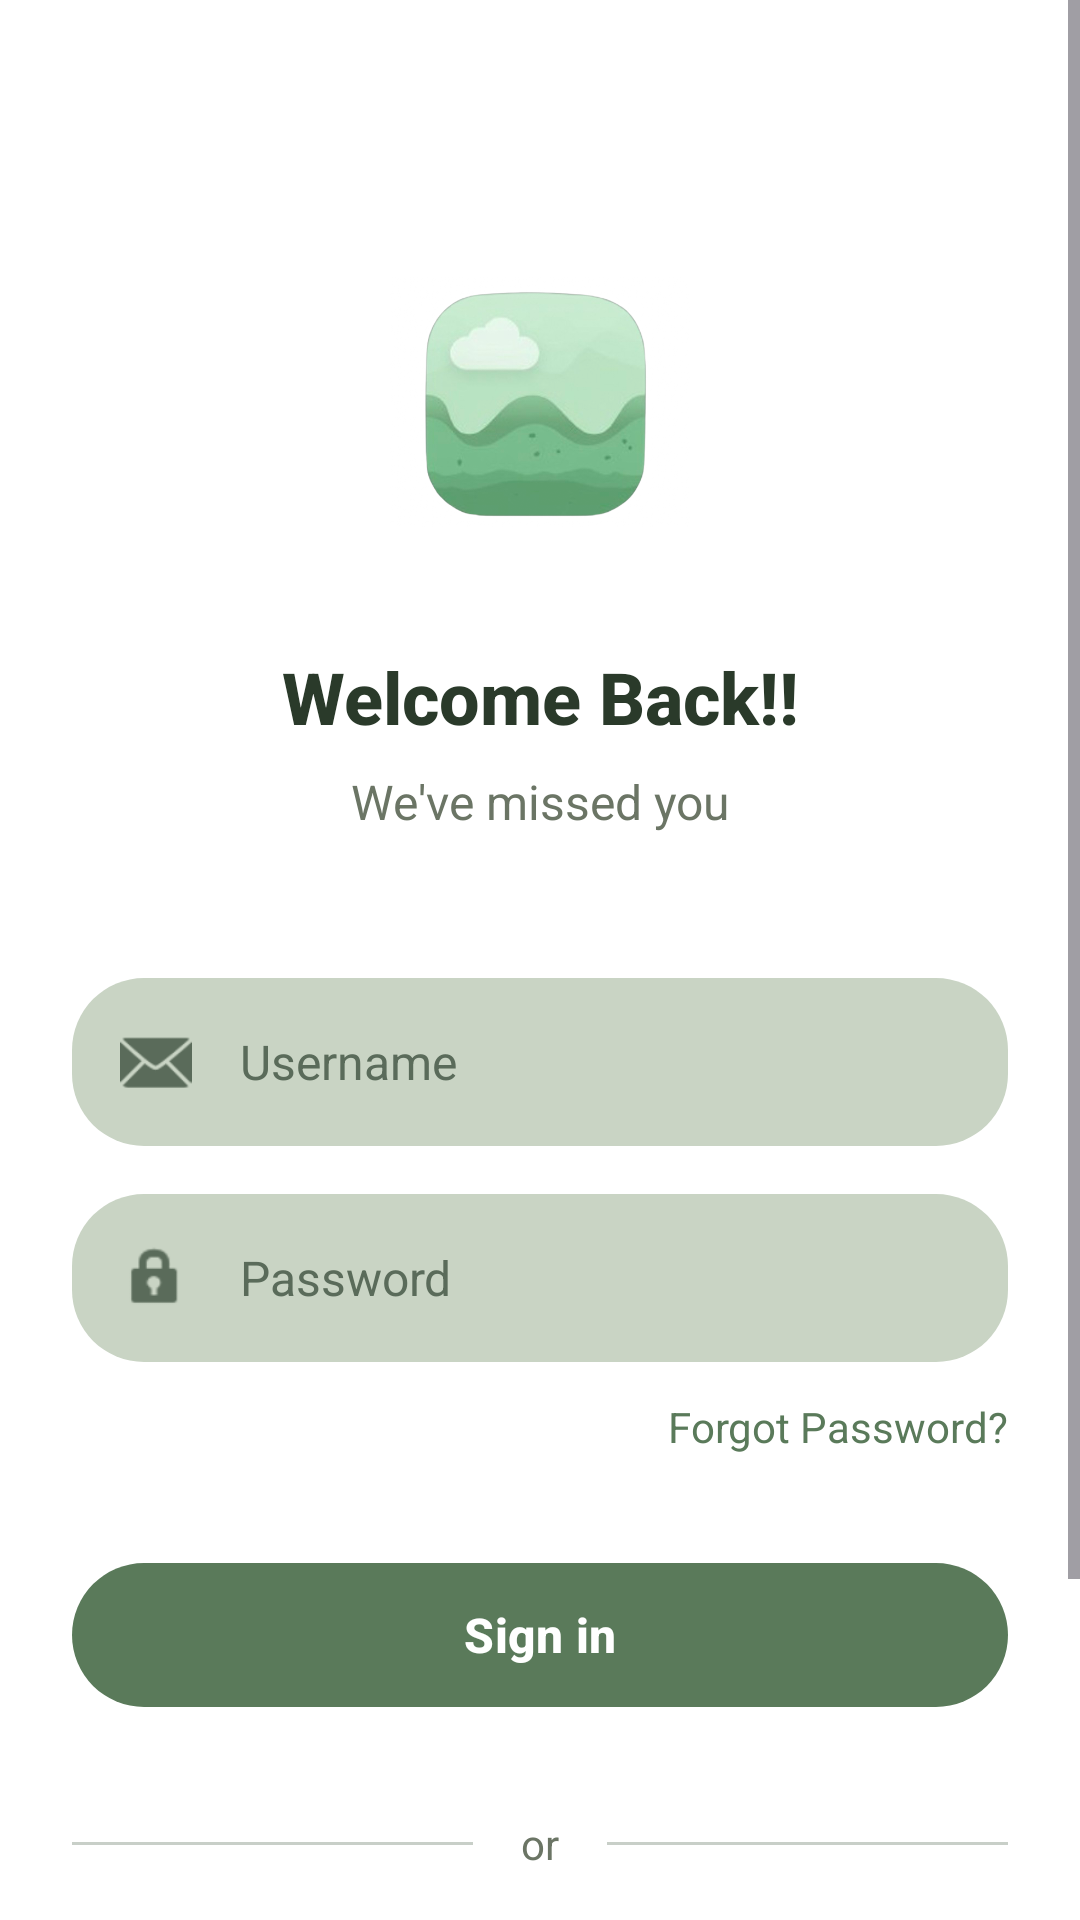

Icon bounding boxes for this 1080×1920 phone screenshot, format (x1, y1, x2, y2):
email: (120, 1037, 192, 1088)
lock idle: (131, 1249, 177, 1303)
